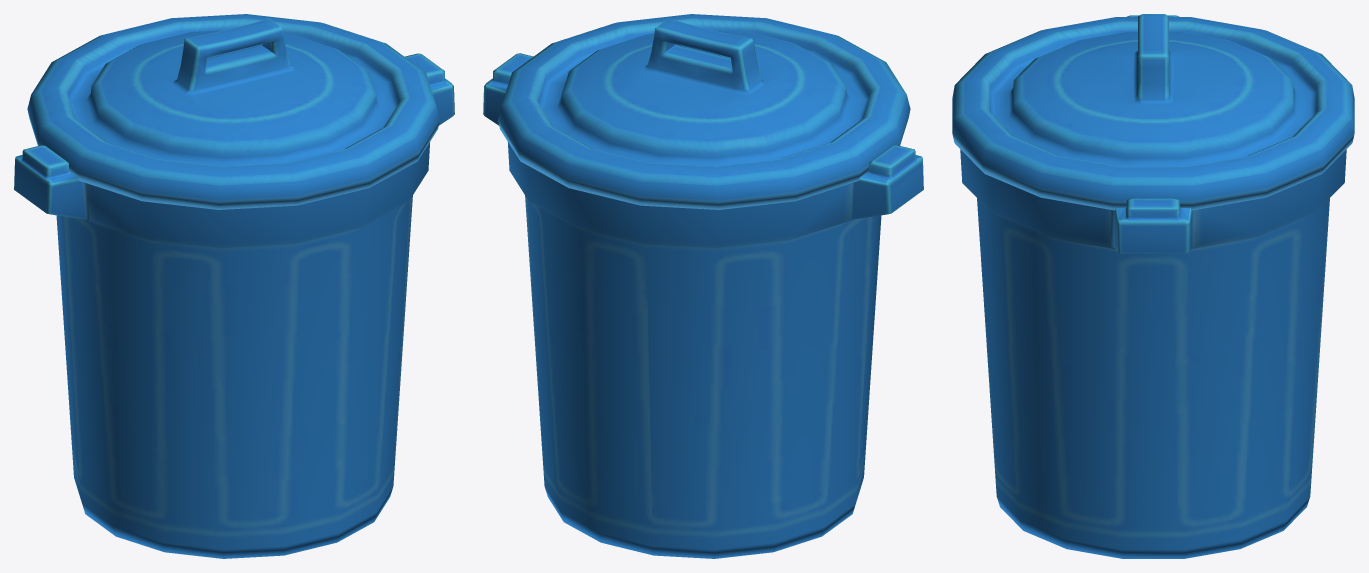
The model's file is FtrPale.glb.
3 views of the same model, side by side, from view 1: azimuth 30°, elevation 25°; view 2: azimuth 150°, elevation 25°; view 3: azimuth 270°, elevation 25° (orthographic).
Parts seen in each view (by area): view 1: base__mBody; view 2: base__mBody; view 3: base__mBody.
Part boxes in pixels (x1,y1,x2,y2): base__mBody: (14,14,454,558); base__mBody: (483,14,923,558); base__mBody: (952,14,1354,558).
Size of the model in its own units: 9.56 by 10.31 by 8.17.
Materials: 1 (1 with a texture image).
